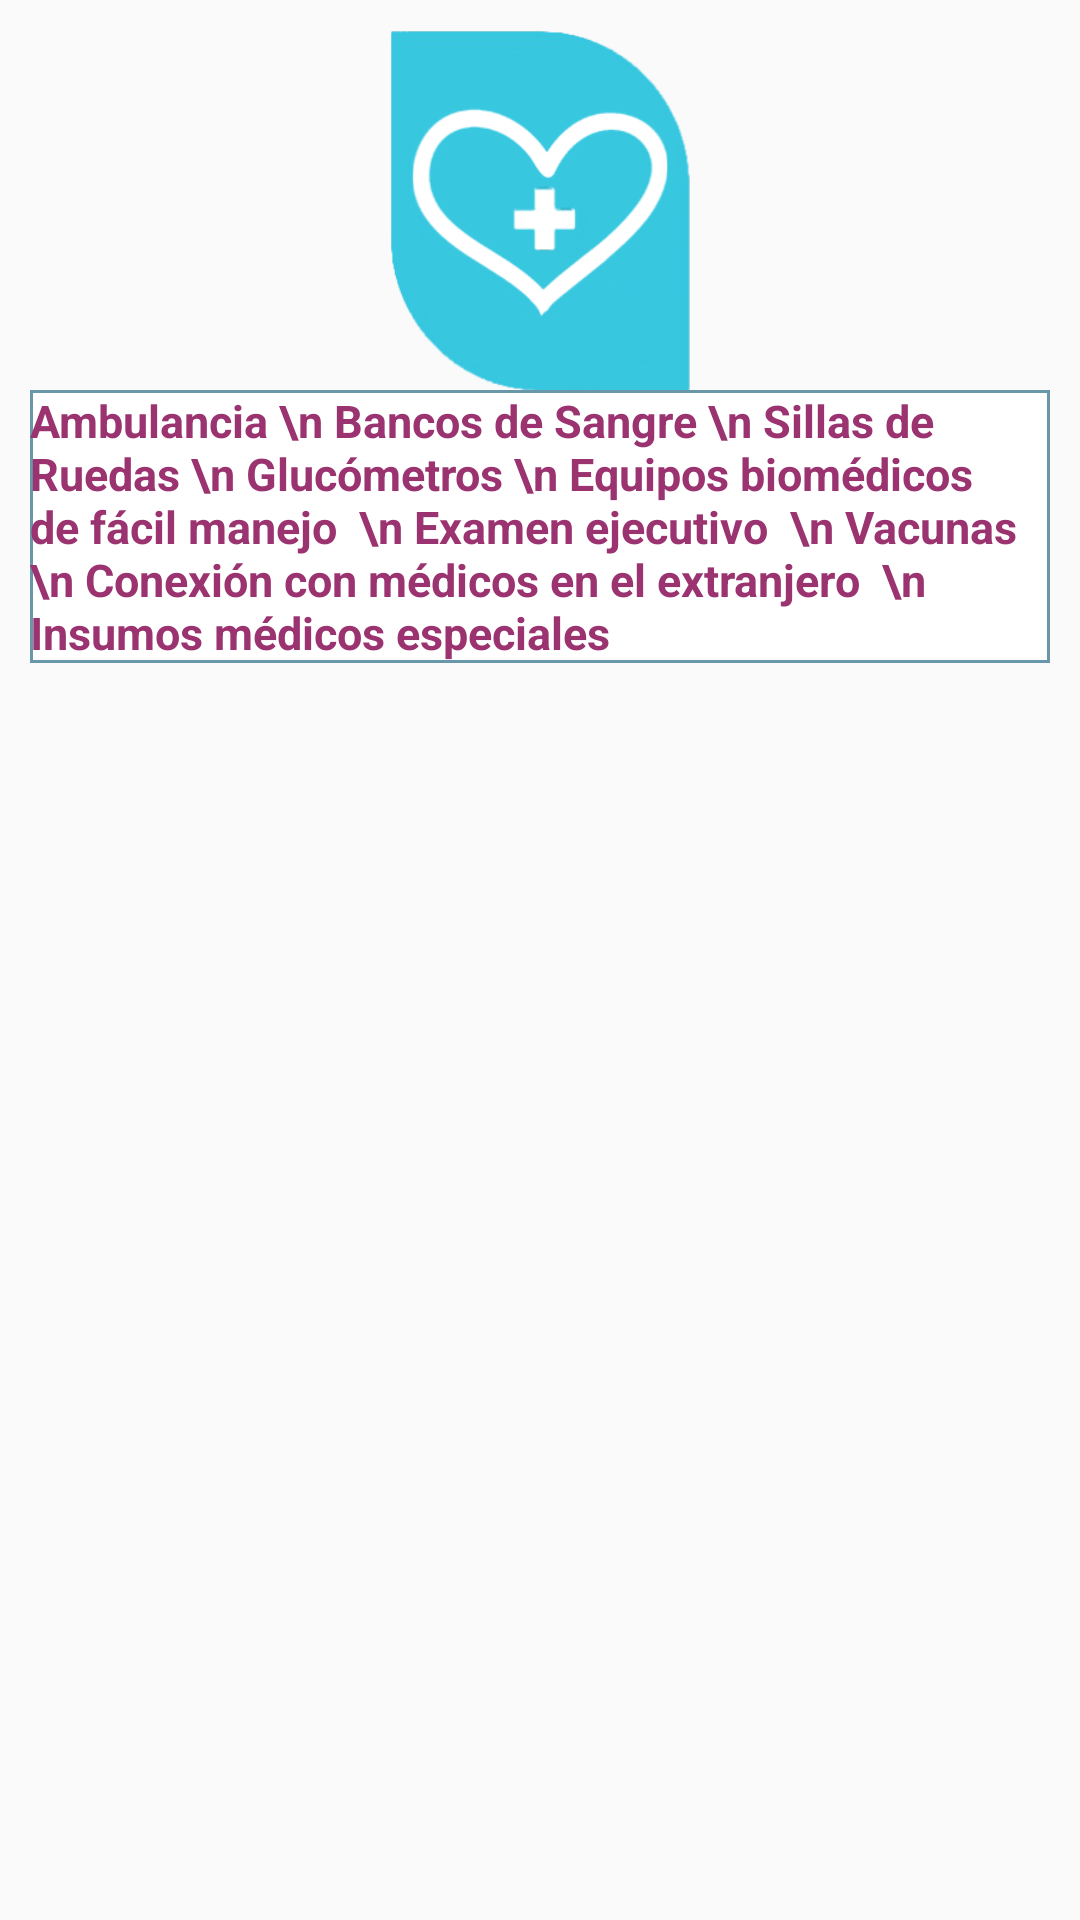

Named icons in this screenshot (1080×1920) and their bounding boxes, (x1,y1,x2,y2):
Servicios Especiales: (391,31,690,390)
